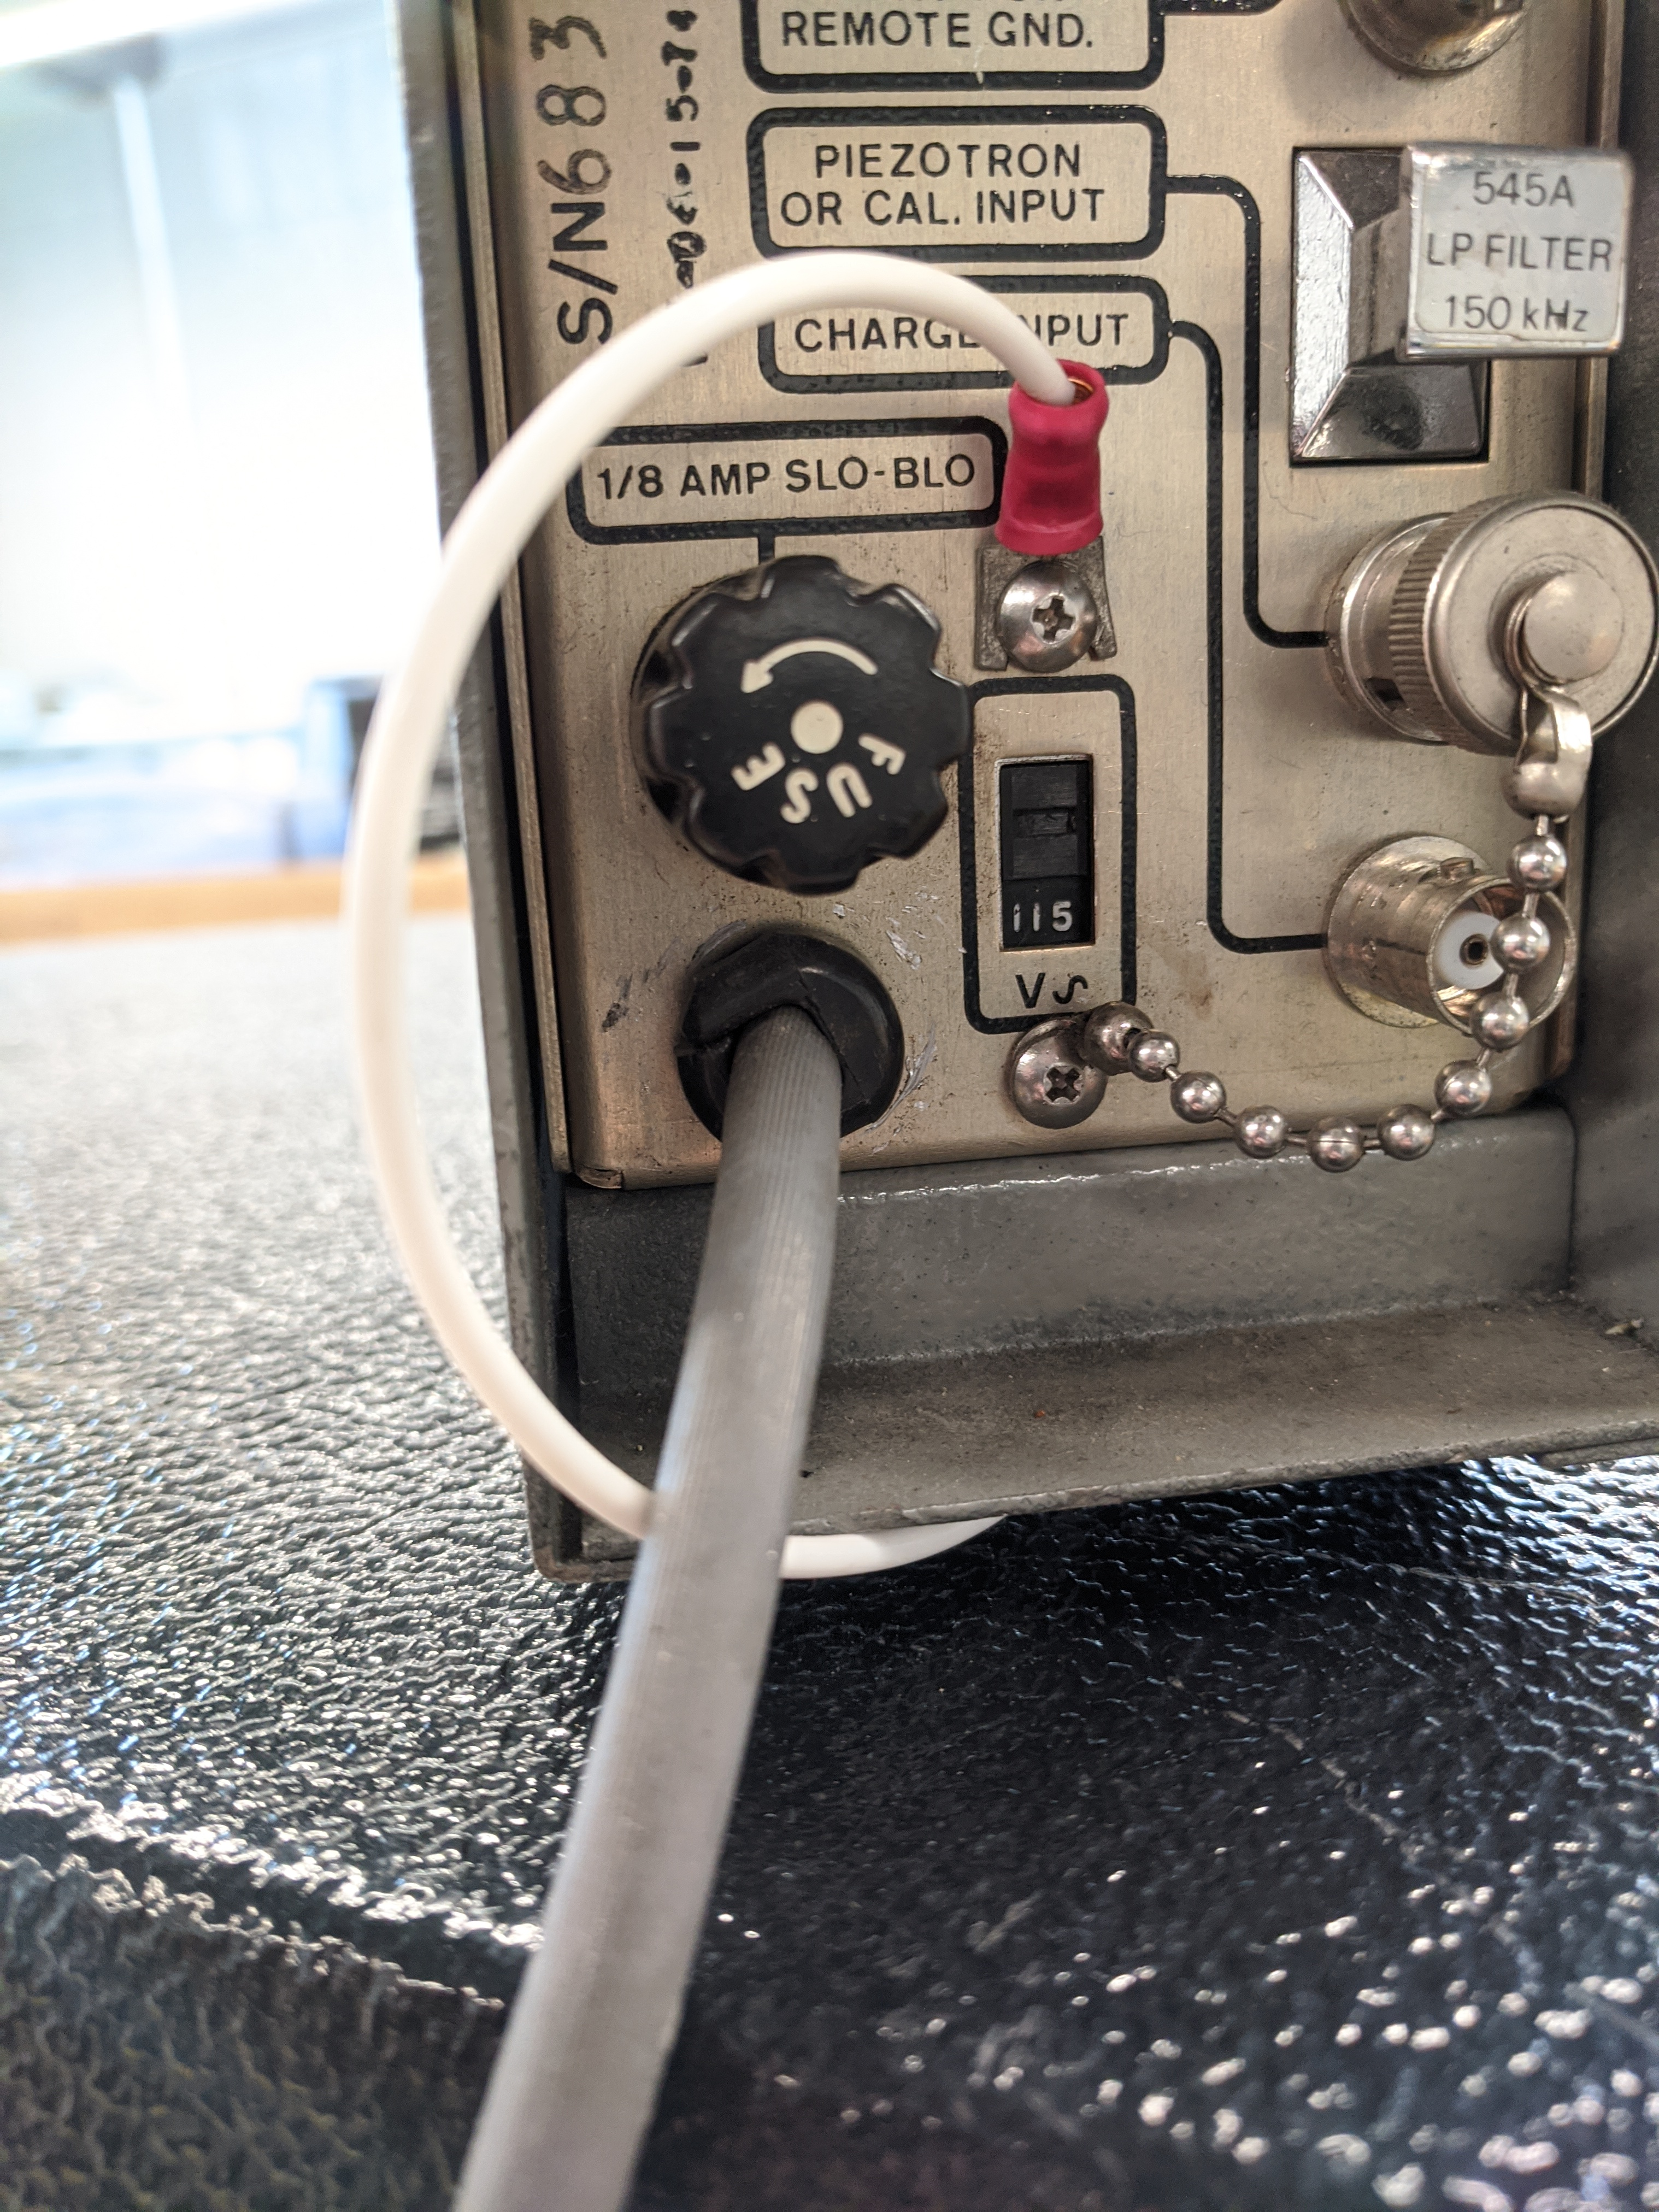cross_recessed_screw: (995, 568, 1110, 679), (1012, 1021, 1098, 1123)
